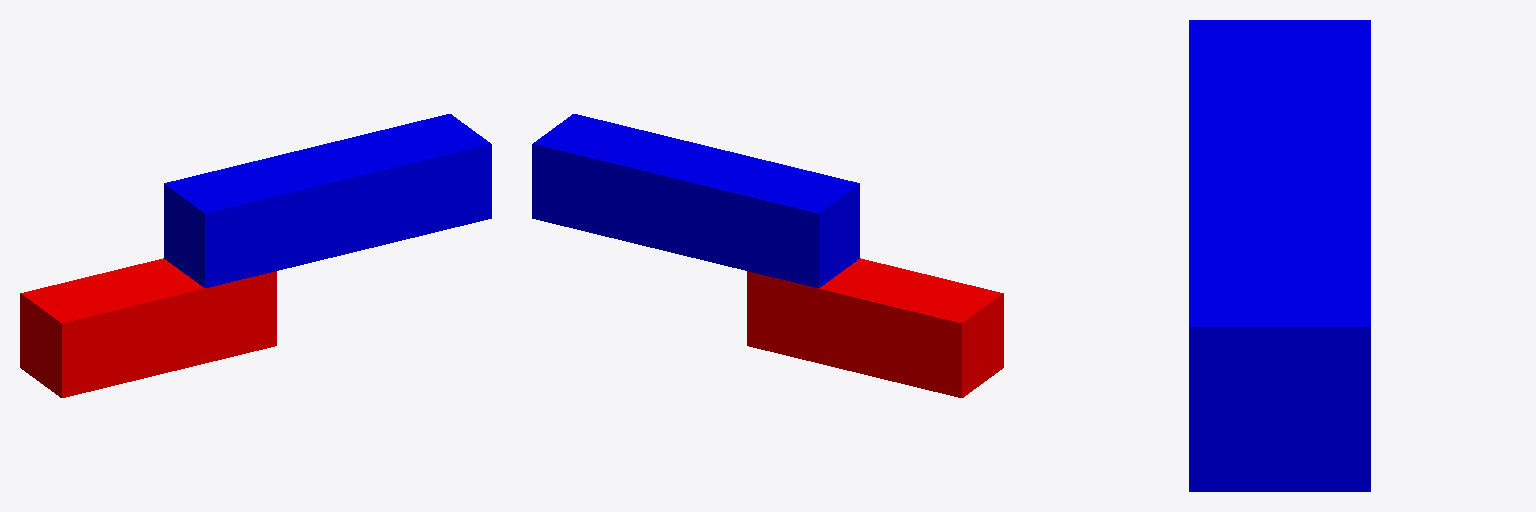
The robot description file, URDF, robot "robot_revolute":
<?xml version="1.0"?>
<robot name="robot_revolute">

  <link name="base_link">
    <inertial>
      <mass value="1.0"/>
      <origin xyz="0 0 0" rpy="0 0 0"/>
      <inertia 
        ixx="0.1" ixy="0.0" ixz="0.0"
        iyy="0.1" iyz="0.0"
        izz="0.1"/>
    </inertial>
    <visual>
      <origin xyz="0 0 0" rpy="0 0 0"/>
      <geometry><box size="3 1 1"/></geometry>
      <material name="Red"><color rgba="1.0 0.0 0.0 1.0"/></material>
    </visual>
    <collision>
      <origin xyz="0 0 0" rpy="0 0 0"/>
      <geometry><box size="3 1 1"/></geometry>
    </collision>
  </link>

  <link name="link1">
    <inertial>
      <mass value="0.5"/>
      <origin xyz="1.5 0 0.5" rpy="0 0 0"/>
      <inertia 
        ixx="0.05" ixy="0.0" ixz="0.0"
        iyy="0.05" iyz="0.0"
        izz="0.05"/>
    </inertial>
    <visual>
      <origin xyz="1.5 0 0.5" rpy="0 0 0"/>
      <geometry><box size="4 1 1"/></geometry>
      <material name="Blue"><color rgba="0.0 0.0 1.0 1.0"/></material>
    </visual>
    <collision>
      <origin xyz="1.5 0 0.5" rpy="0 0 0"/>
      <geometry><box size="4 1 1"/></geometry>
    </collision>
  </link>

  <joint name="joint_revolute_1" type="revolute">
    <parent link="base_link"/>
    <child link="link1"/>
    <axis xyz="0 0 1"/>
    <origin xyz="1 0 0.5" rpy="0 0 0"/>
    <limit lower="-1.57" upper="1.57" effort="10" velocity="1.0"/>
  </joint>

</robot>

--- What the picture shows (computed from the rendered views, not written in the file) ---
Views: 3 orthographic renders of the robot side by side, from view 1: azimuth 30°, elevation 25°; view 2: azimuth 150°, elevation 25°; view 3: azimuth 270°, elevation 25°.
Robot: robot_revolute — 2 links, 1 joints (1 revolute); root link base_link; default pose: every joint at zero.
Visible links, largest first — view 1: link1, base_link; view 2: link1, base_link; view 3: link1.
Link boxes in pixels (x1=…): link1: x1=164, y1=114, x2=491, y2=287; base_link: x1=20, y1=258, x2=276, y2=397; link1: x1=532, y1=114, x2=859, y2=287; base_link: x1=747, y1=258, x2=1003, y2=397; link1: x1=1189, y1=20, x2=1370, y2=491.
Bounding box of the posed robot: 6 × 1 × 2 m (x, y, z).
Geometry: primitives only (box / cylinder / sphere), no mesh files.